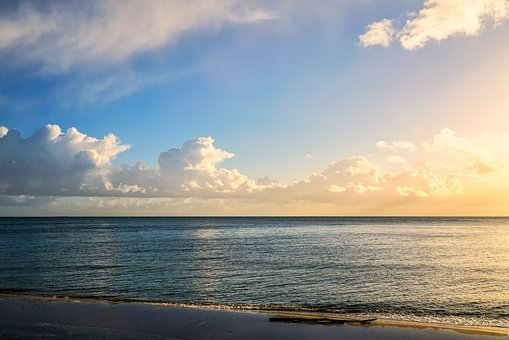sea: (3, 219, 509, 339)
sky: (4, 2, 509, 214)
